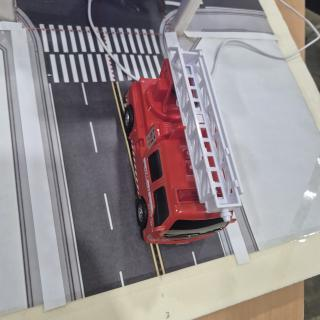Fire_truck: (124, 47, 243, 244)
